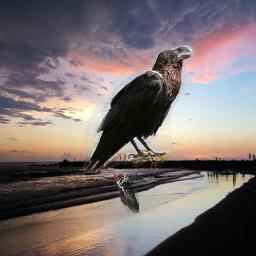Crow: (83, 45, 196, 173)
Woodpecker: (113, 173, 139, 213)
